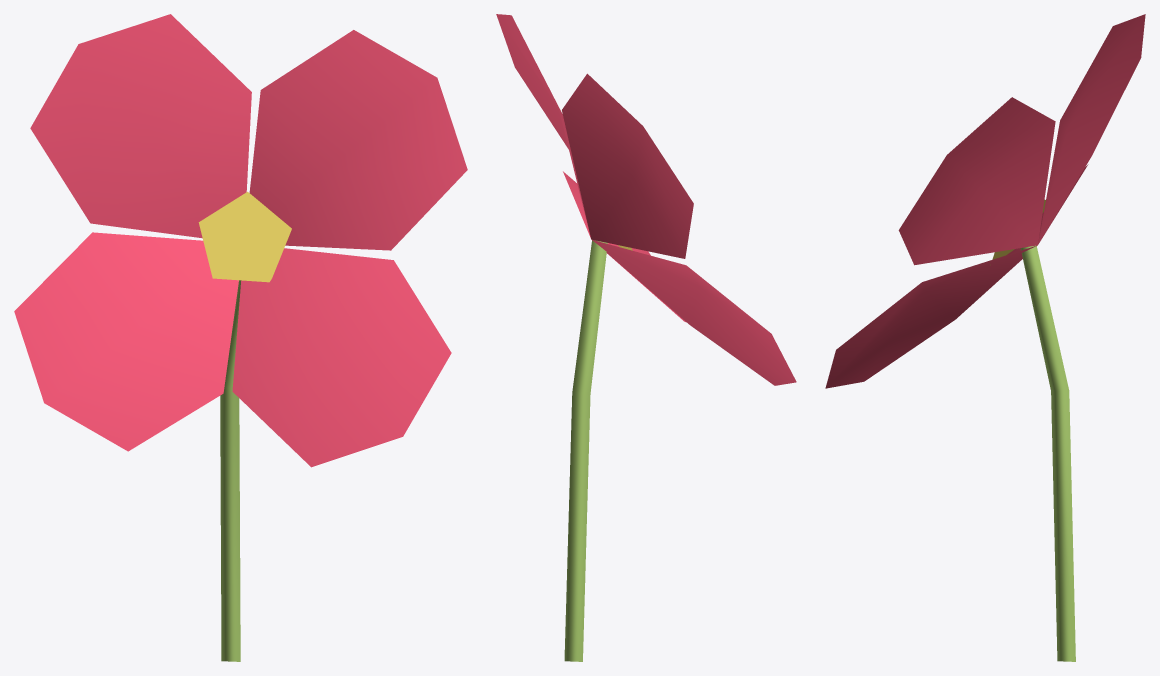
Rendered from plant-example.fbx.
3 views of the same model, side by side, from view 1: azimuth 30°, elevation 25°; view 2: azimuth 150°, elevation 25°; view 3: azimuth 270°, elevation 25° (orthographic). The views are drawn at different scales.
Parts seen in each view (by area): view 1: Flower_c_OneS_07; view 2: Flower_c_OneS_07; view 3: Flower_c_OneS_07.
Boxes of the visible parts, <box> form: Flower_c_OneS_07: <box>14,14,467,661</box>; Flower_c_OneS_07: <box>496,14,796,661</box>; Flower_c_OneS_07: <box>825,14,1145,661</box>.
Size of the model in its own units: 20.84 by 26.19 by 44.2.
1 material, 1 textured.
